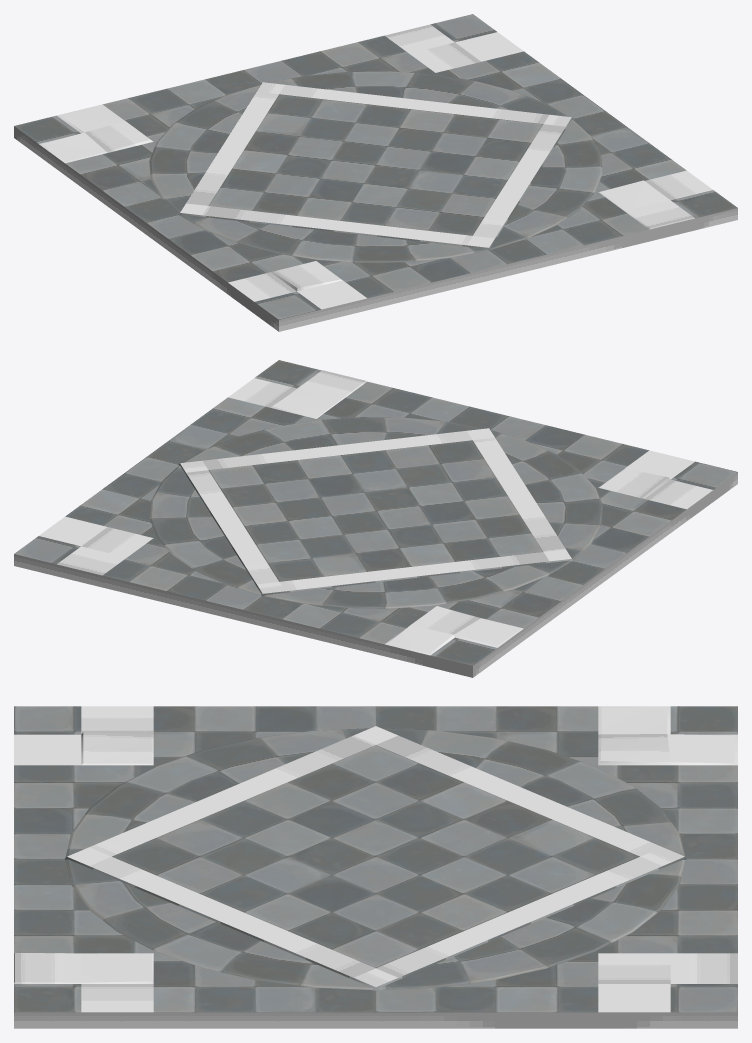
File: SM_Floor_Center_02_Variant.fbx
3 views of the same model, one above another, from view 1: azimuth 30°, elevation 25°; view 2: azimuth 150°, elevation 25°; view 3: azimuth 270°, elevation 25° (orthographic). The views are drawn at different scales.
Parts seen in each view (by area): view 1: SM_Floor_Center_02_Variant; view 2: SM_Floor_Center_02_Variant; view 3: SM_Floor_Center_02_Variant.
Part boxes in pixels (x1,y1,x2,y2): SM_Floor_Center_02_Variant: (14, 14, 737, 331); SM_Floor_Center_02_Variant: (14, 360, 737, 677); SM_Floor_Center_02_Variant: (14, 706, 737, 1028).
Size of the model in its own units: 1000 by 30.27 by 1000.
